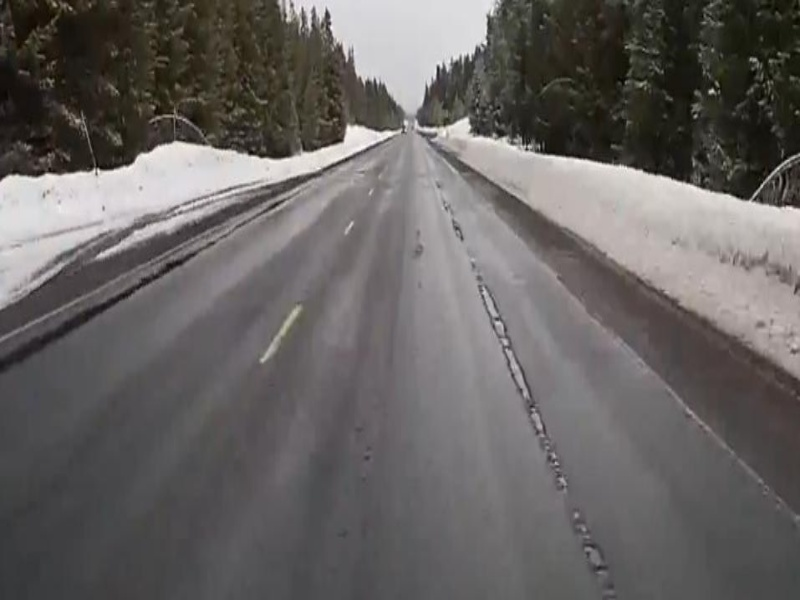pothole: (474, 281, 533, 413)
